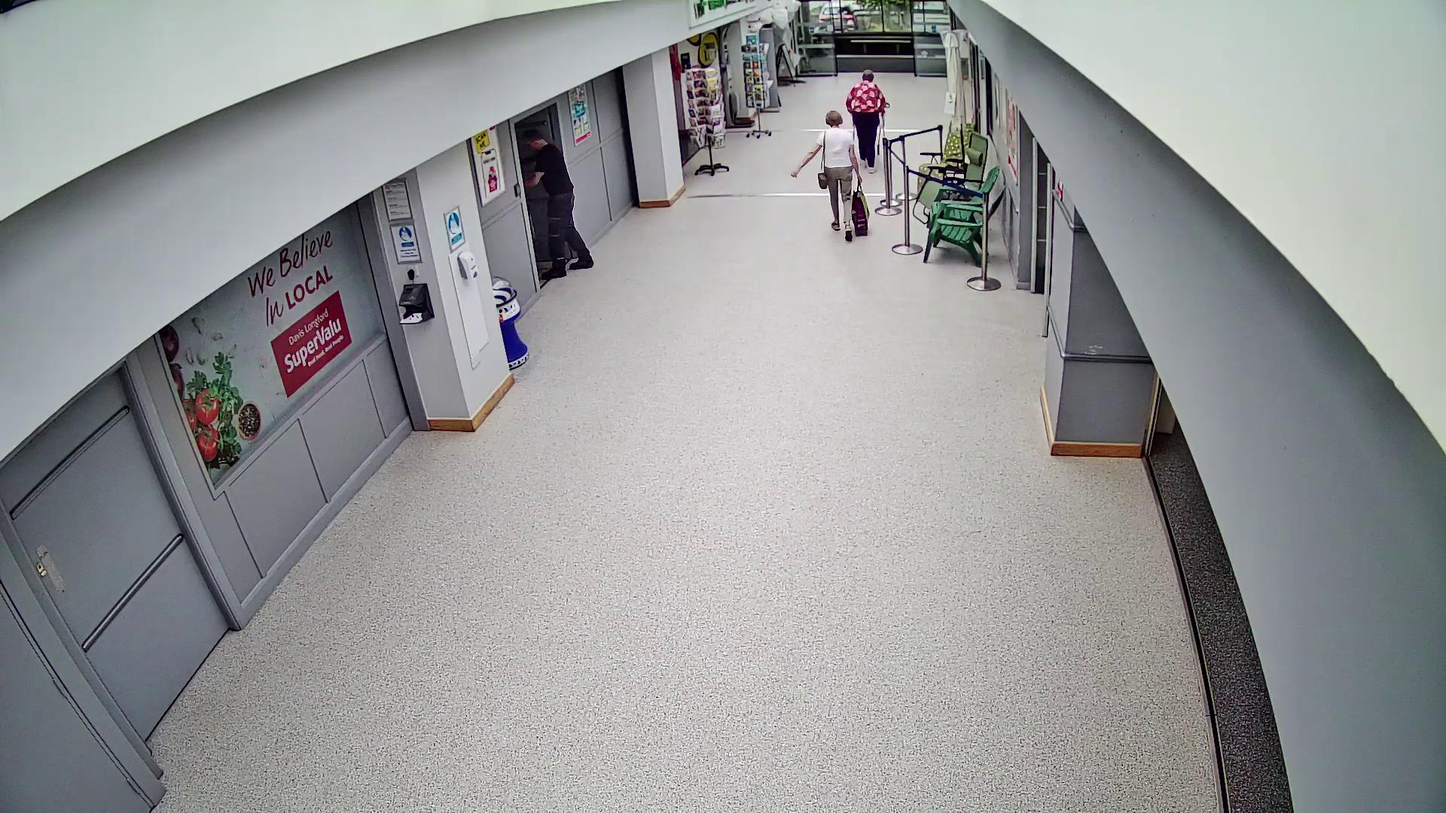backpack-or-handbag: (816, 172, 829, 189)
filled-shopping-bags: (852, 179, 870, 236)
person: (791, 110, 870, 242)
person-with-backpack-handbag-and-shopping-bag-s-: (792, 110, 869, 241)
